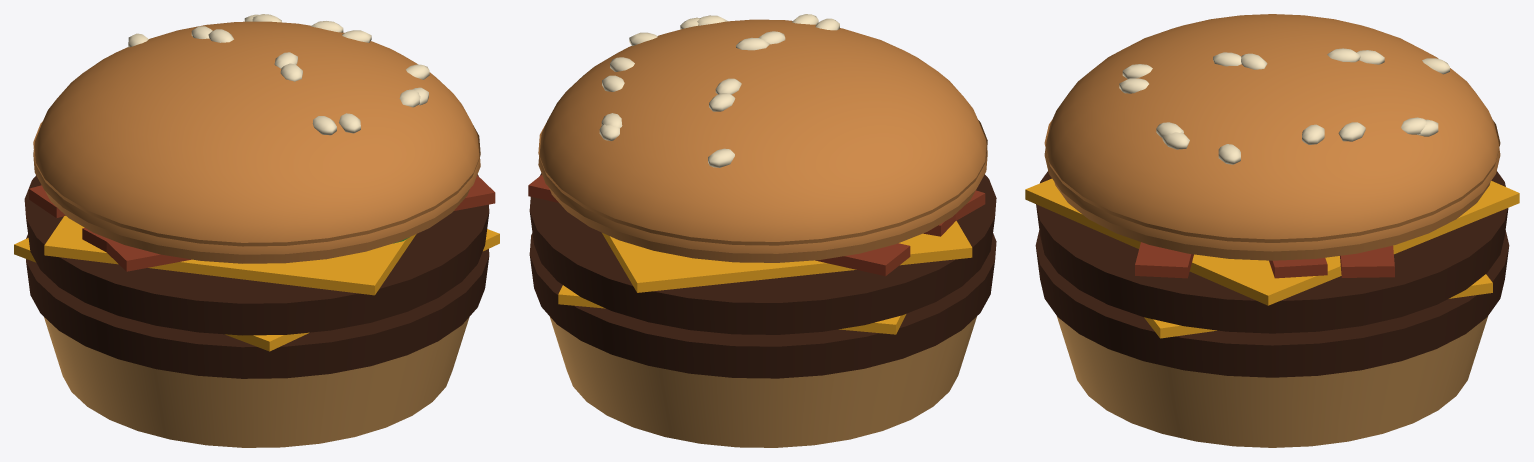
The model's file is burger-doble-picante.glb.
The picture shows the model from 3 angles, left to right: view 1: azimuth 30°, elevation 25°; view 2: azimuth 150°, elevation 25°; view 3: azimuth 270°, elevation 25°; orthographic projection.
Size of the model in its own units: 0.1777 by 0.126 by 0.1777.
